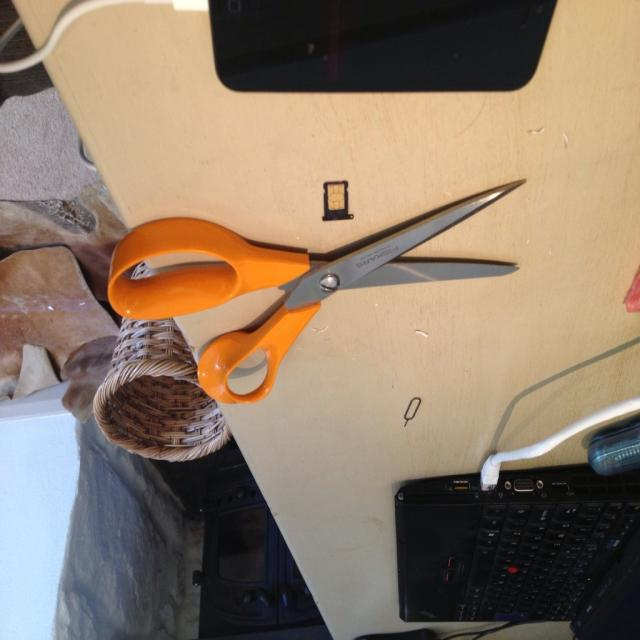scissors: (107, 178, 526, 404)
